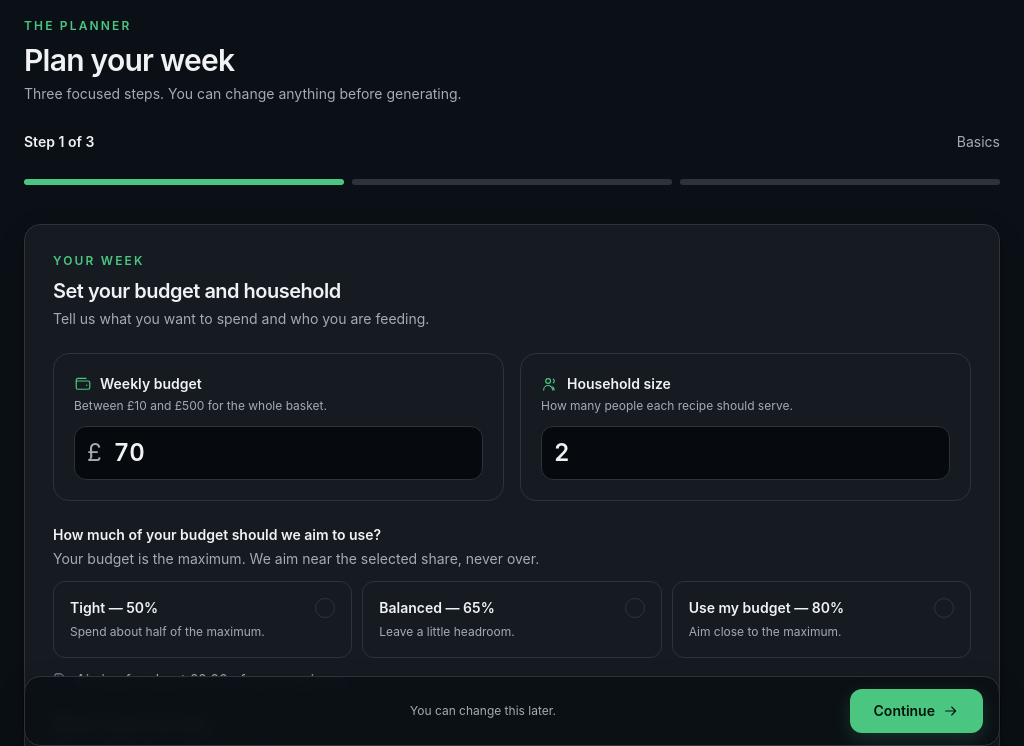
Scenario: App › sends the constraints as pence and renders the returned plan
Click the button "Continue" at (916, 711), box [850, 689, 983, 733]
(page scrolled)
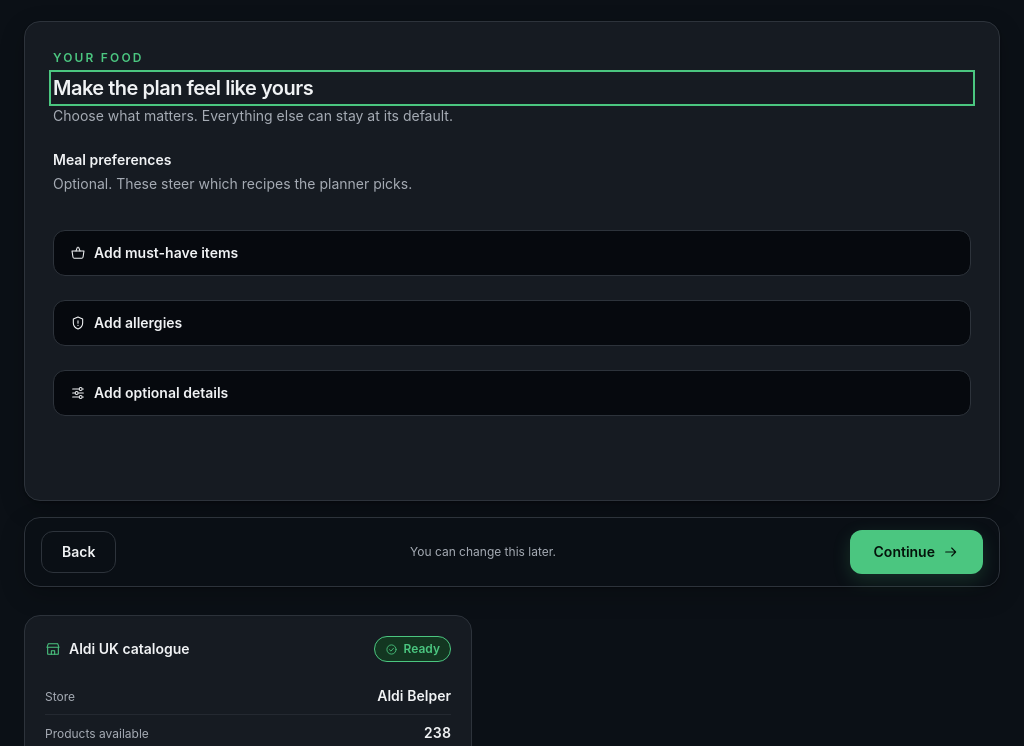
Click the button "Continue" at (916, 552), box [850, 530, 983, 574]
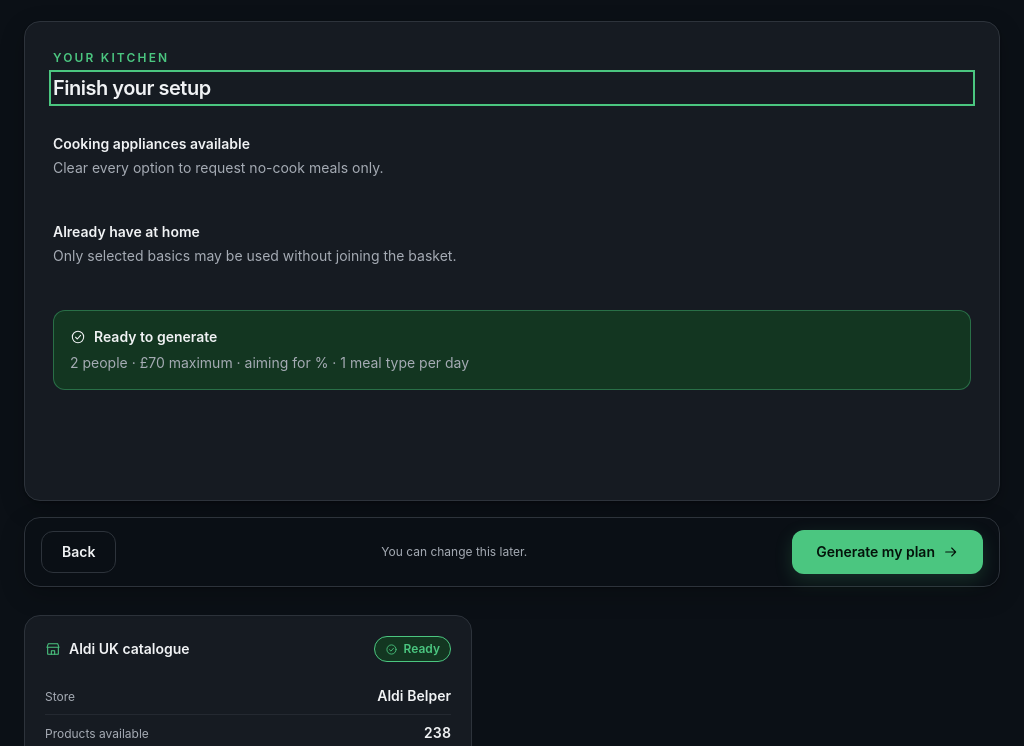
Click the button "Generate my plan" at (888, 552), box [792, 530, 983, 574]
(page scrolled)
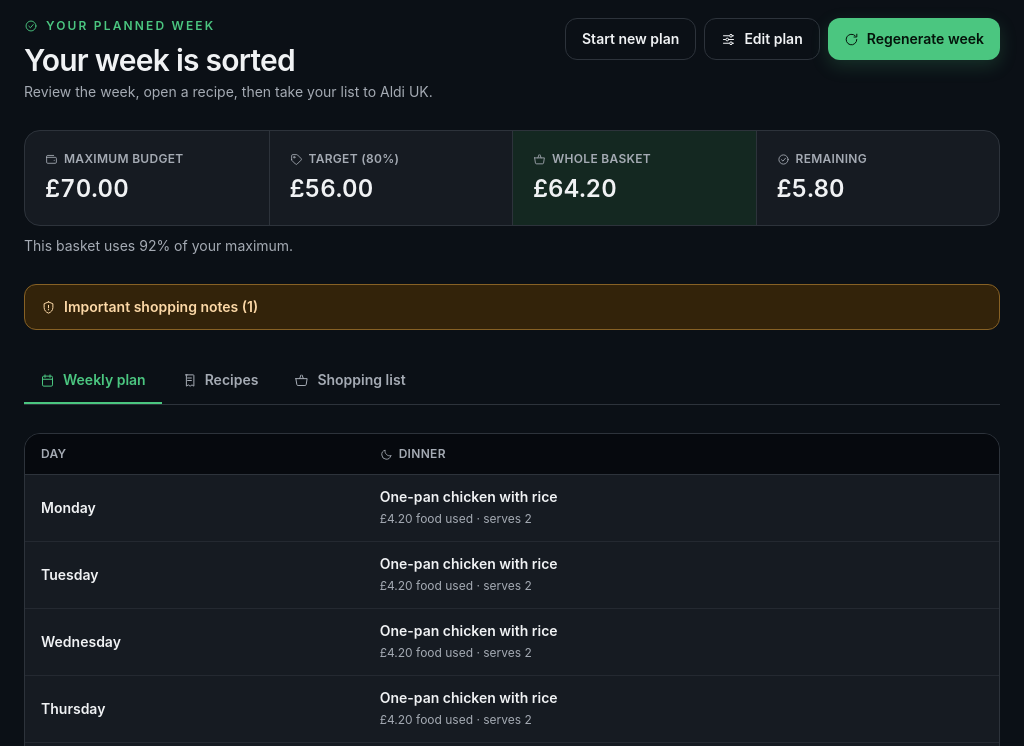
Expected: the heading "Your week is sorted" is shown, [24, 42, 295, 78]
Expected: the text "£70.00" is shown, [45, 174, 129, 203]
Expected: the text "£5.80" is shown, [776, 174, 845, 203]
